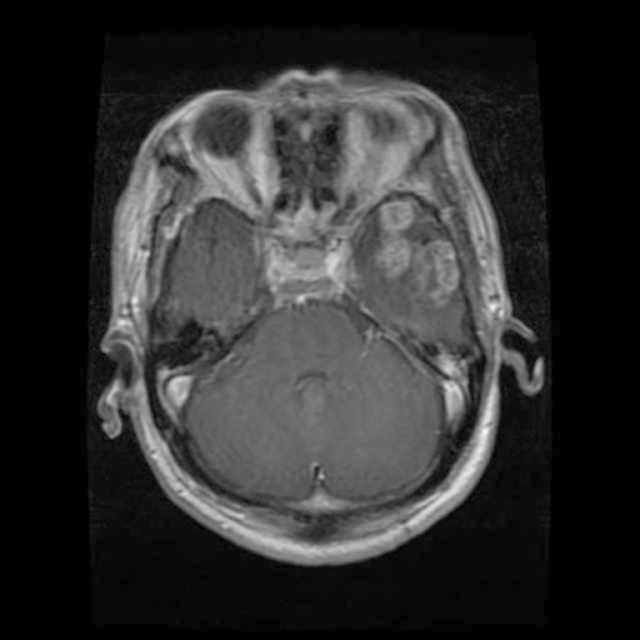pituitary tumor: (380, 202, 454, 302)
